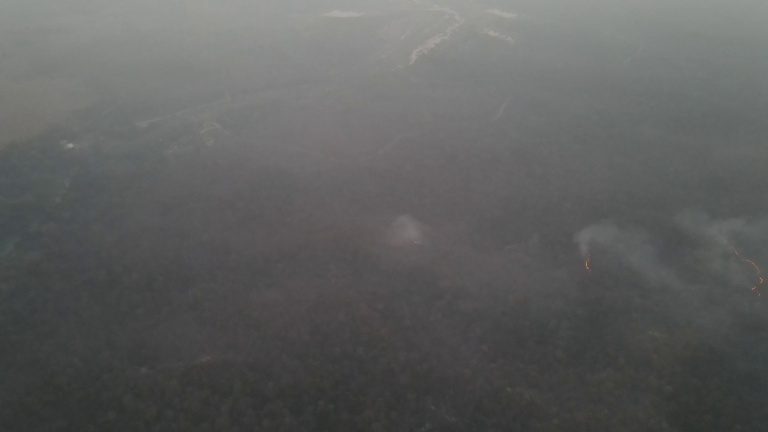fire: (725, 240, 768, 310), (578, 253, 593, 280)
smoke: (567, 218, 663, 295), (667, 208, 756, 285), (382, 211, 432, 255)
